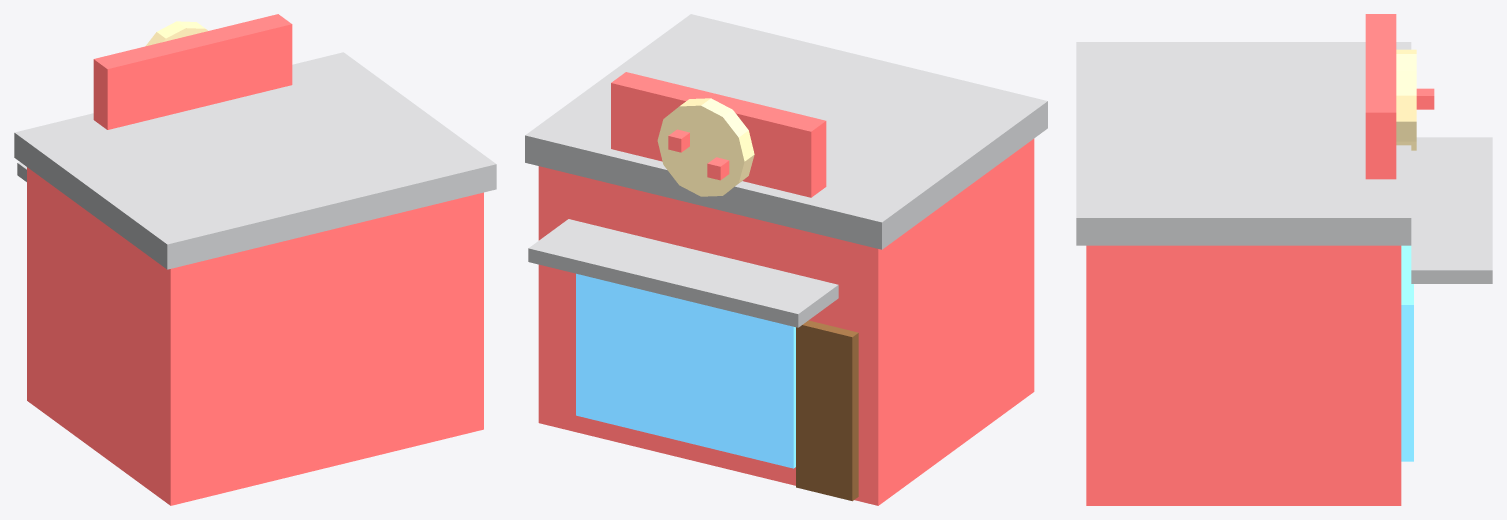
Rendered from pizzeria.glb.
3 views of the same model, side by side, from view 1: azimuth 30°, elevation 25°; view 2: azimuth 150°, elevation 25°; view 3: azimuth 270°, elevation 25° (orthographic). The views are drawn at different scales.
Visible parts, largest first — view 1: pizzeria; view 2: pizzeria; view 3: pizzeria.
Boxes of the visible parts, box(x1,y1,x2,y2) form: pizzeria: box(14, 14, 496, 505); pizzeria: box(525, 14, 1047, 505); pizzeria: box(1076, 14, 1492, 505).
Size of the model in its own units: 0.82 by 0.8 by 0.82.
